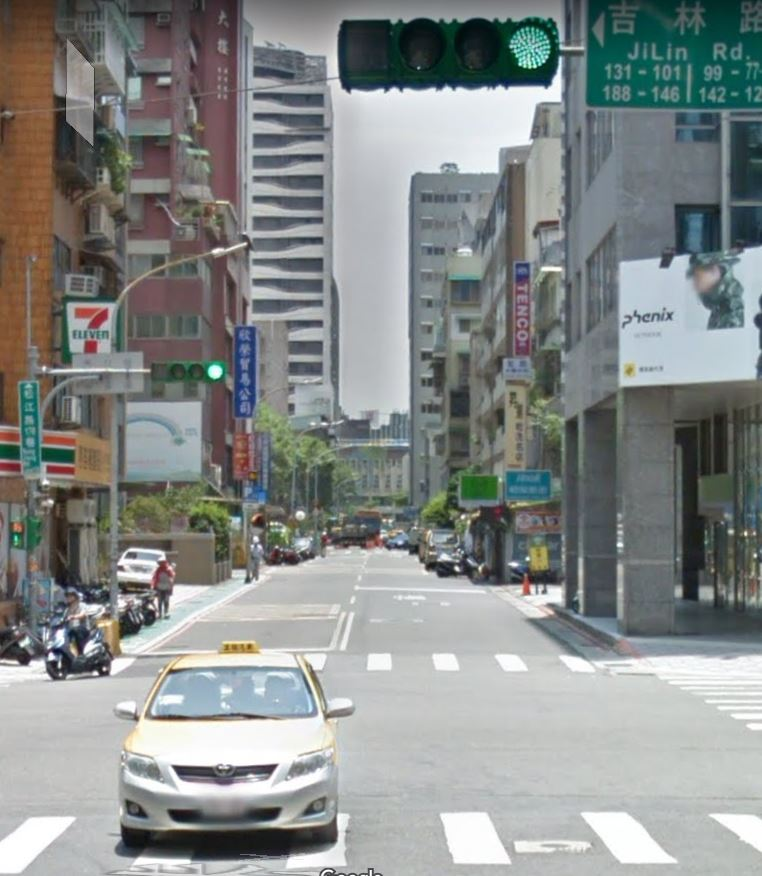Traffic_light_green: (340, 18, 558, 92), (150, 356, 228, 383)
car: (110, 635, 360, 846)
